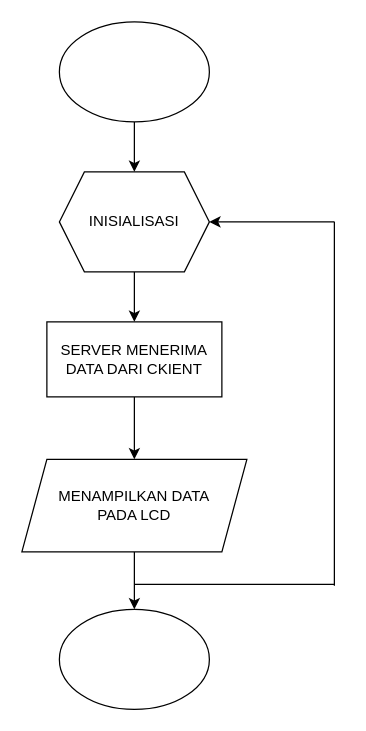
The diagram is 366 pixels wide and 731 high, and some of its shapes have lost their labels. The centre of each missing label's shape, as x and y in pixels:
MULAI: pixel 133 71
SELESAI: pixel 133 658
